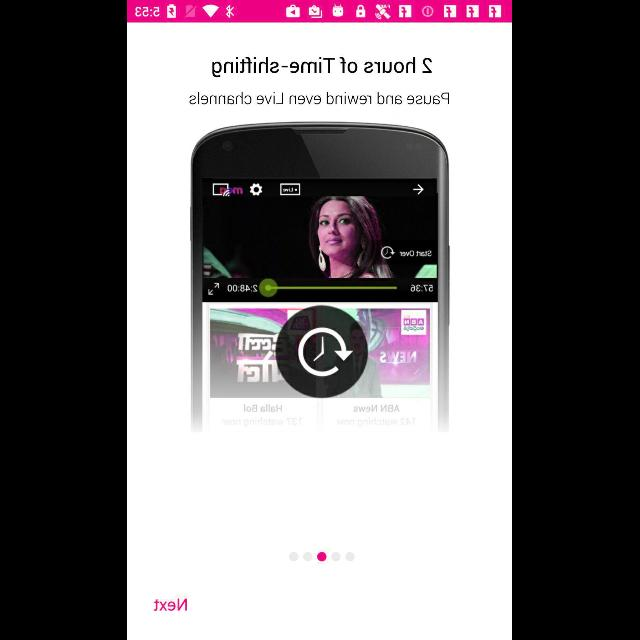image: (191, 121, 451, 433)
pageindicator: (290, 552, 356, 562)
text: (213, 56, 433, 78), (190, 92, 450, 105), (154, 599, 188, 611)
uppertaskbar: (128, 1, 512, 23)
